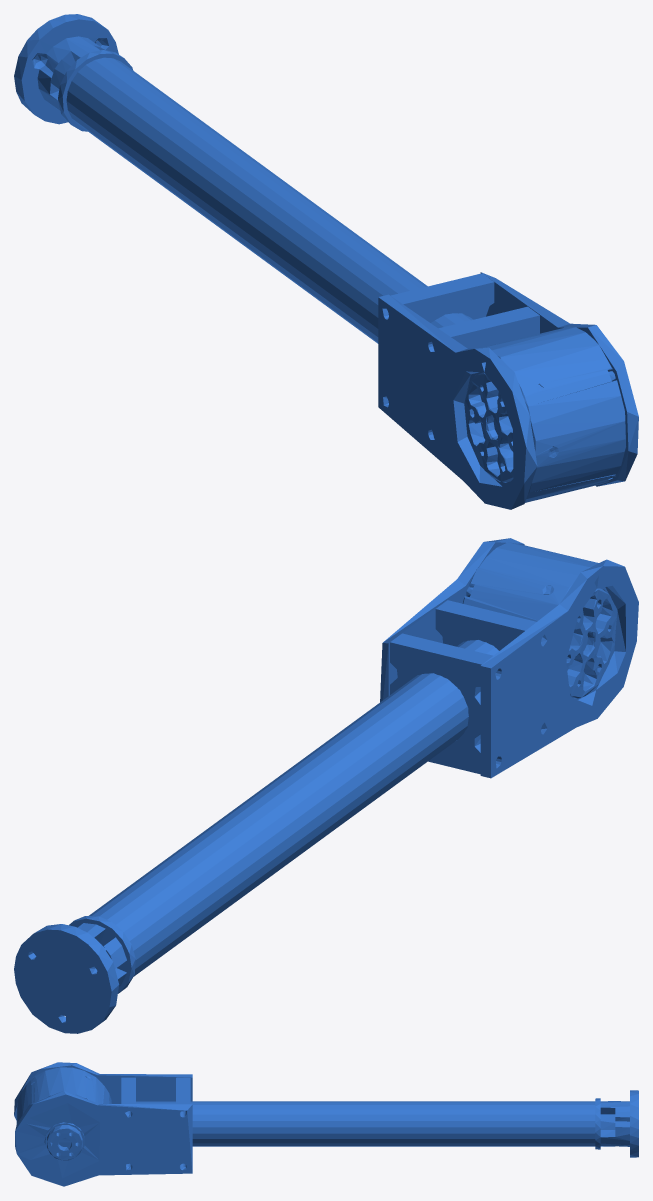
The model's file is tilt_pitch_r.dae.
The picture shows the model from 3 angles, top to bottom: view 1: azimuth 30°, elevation 25°; view 2: azimuth 150°, elevation 25°; view 3: azimuth 270°, elevation 25°; orthographic projection. The views are drawn at different scales.
Visible parts, largest first — view 1: arm_r_pitch; view 2: arm_r_pitch; view 3: arm_r_pitch.
Part boxes in pixels (left/top/right/bottom): arm_r_pitch: left=14, top=14, right=638, bottom=509; arm_r_pitch: left=14, top=538, right=638, bottom=1033; arm_r_pitch: left=14, top=1062, right=638, bottom=1186.
Bounding box in the file's own units: 0.048 × 0.343 × 0.0564.
